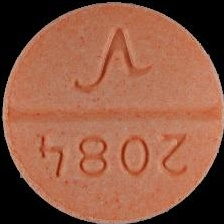61786-155: (0, 0, 224, 224)
